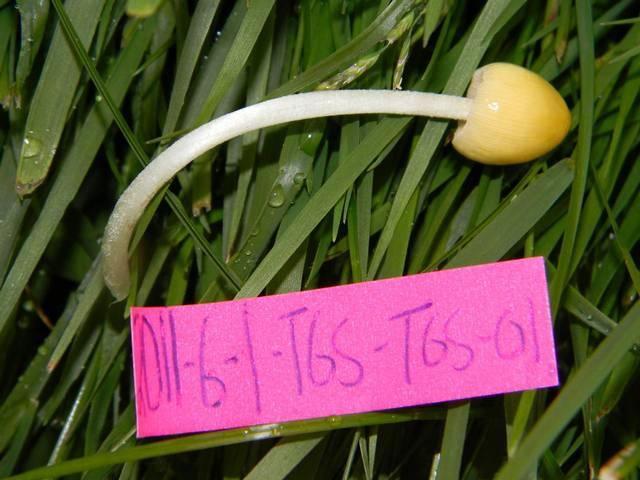edible_mushroom: (98, 60, 572, 301)
